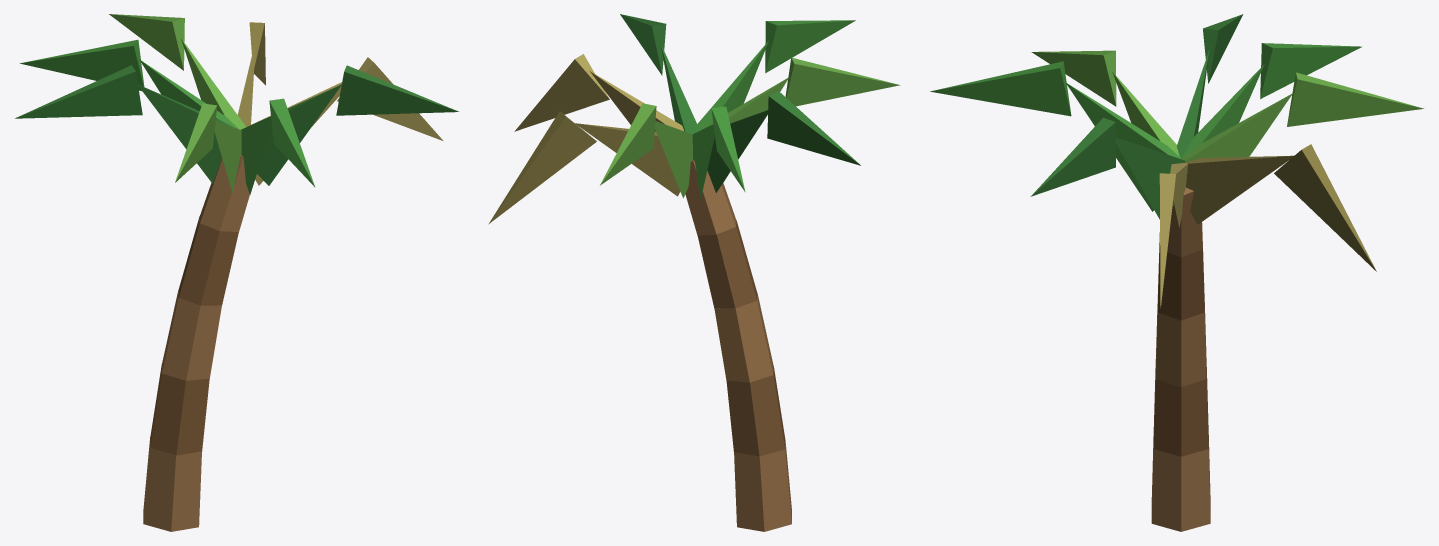
File: palmtree-harvested.glb
3 views of the same model, side by side, from view 1: azimuth 30°, elevation 25°; view 2: azimuth 150°, elevation 25°; view 3: azimuth 270°, elevation 25° (orthographic). The views are drawn at different scales.
Parts seen in each view (by area): view 1: palmtree-harvested; view 2: palmtree-harvested; view 3: palmtree-harvested.
Part boxes in pixels (bbox=[...]): palmtree-harvested: bbox=[15, 14, 458, 531]; palmtree-harvested: bbox=[488, 14, 900, 531]; palmtree-harvested: bbox=[930, 14, 1423, 531].
Bounding box in the file's own units: 0.6296 × 0.6943 × 0.6512.
Materials: 1 (1 with a texture image).
